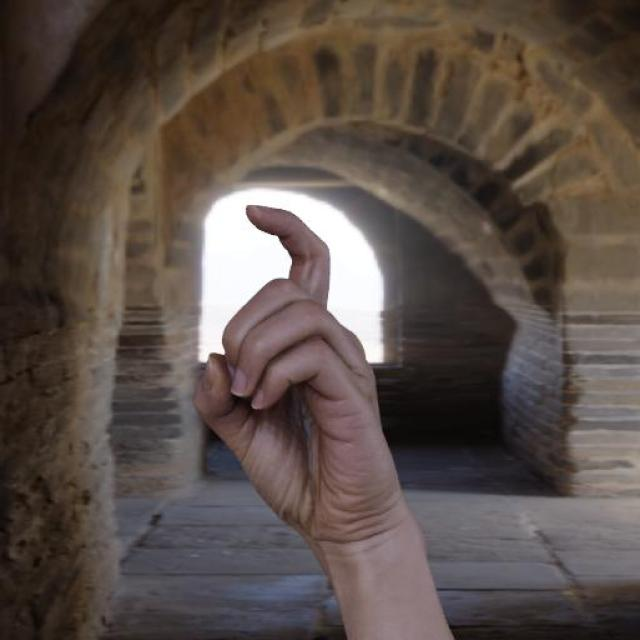X: (189, 199, 415, 560)
